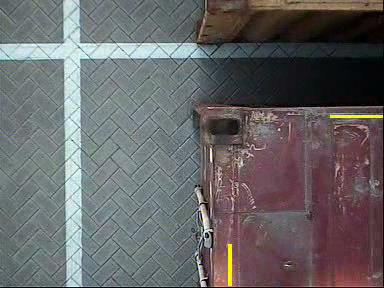groundmarker_2: (140, 142, 200, 178)
